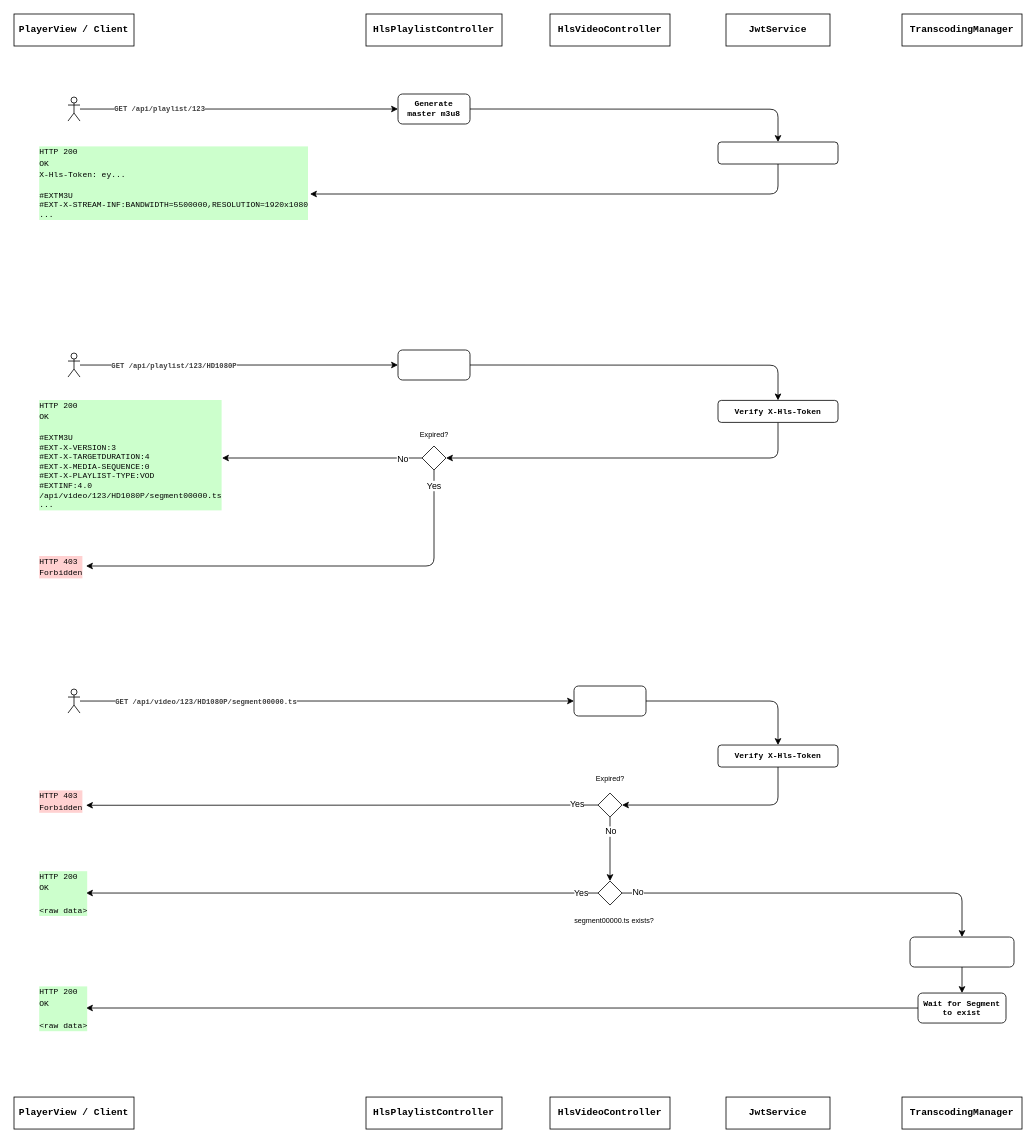
The diagram is 1036 pixels wide and 1143 high, and some of its shapes have lost their labels. The centre of each missing label's shape, as x and y in pixels:
"Generate playlist m3u8" goes at (433,364).
"Generate X-Hls-Token" goes at (777,152).
"Get Video Segment" goes at (609,700).
"Start Transcode Thread" goes at (961,951).
